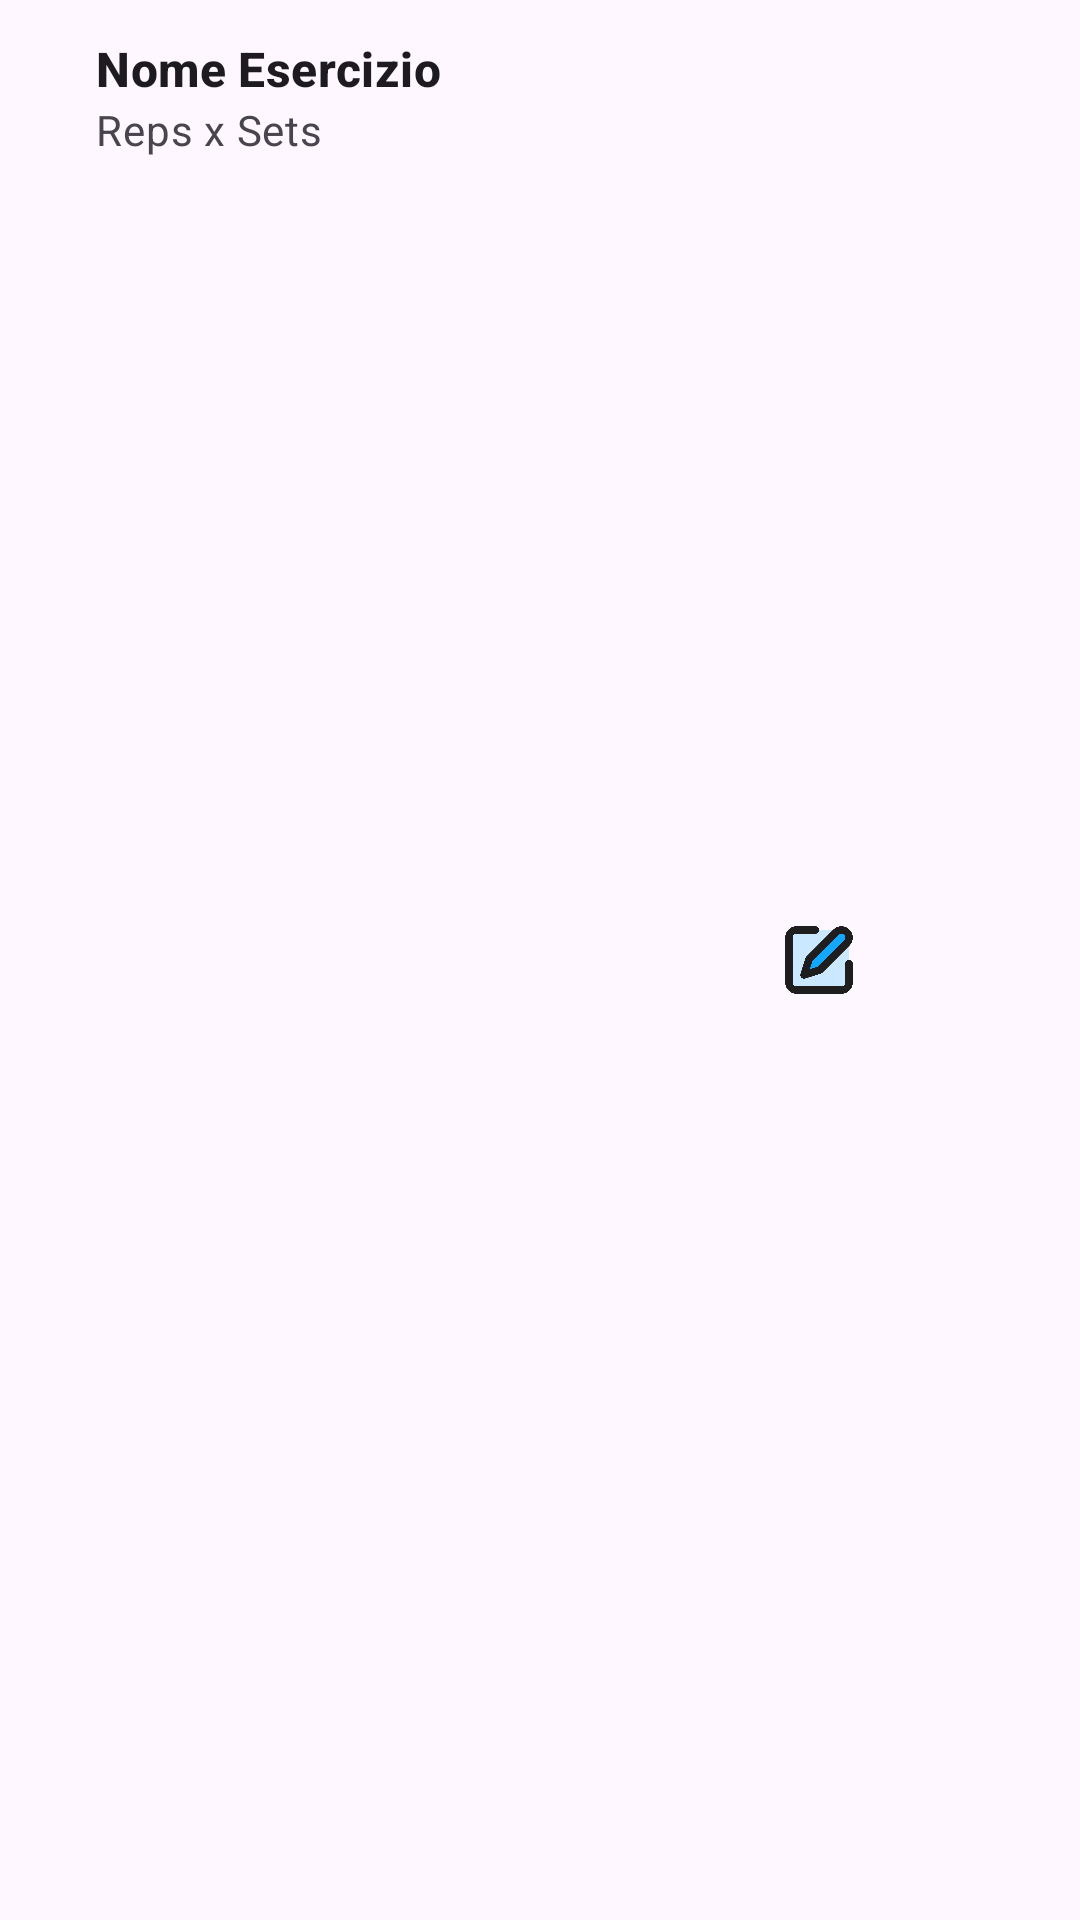

Icon click points for this 1080w x 1920h phone screenshot, format [x,y]:
edit: [819,960]
